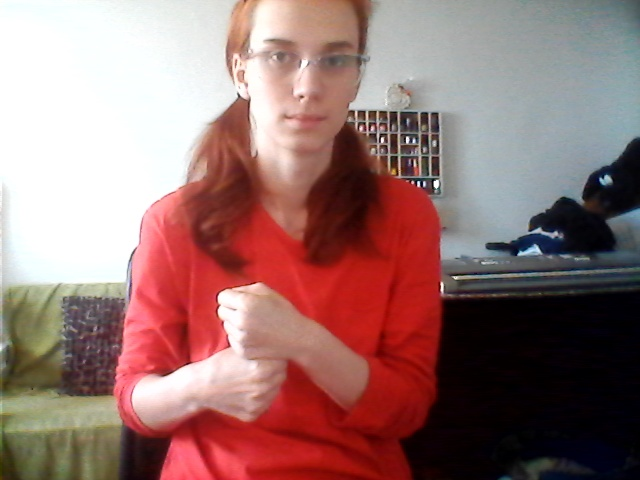g: (205, 273, 296, 433)
